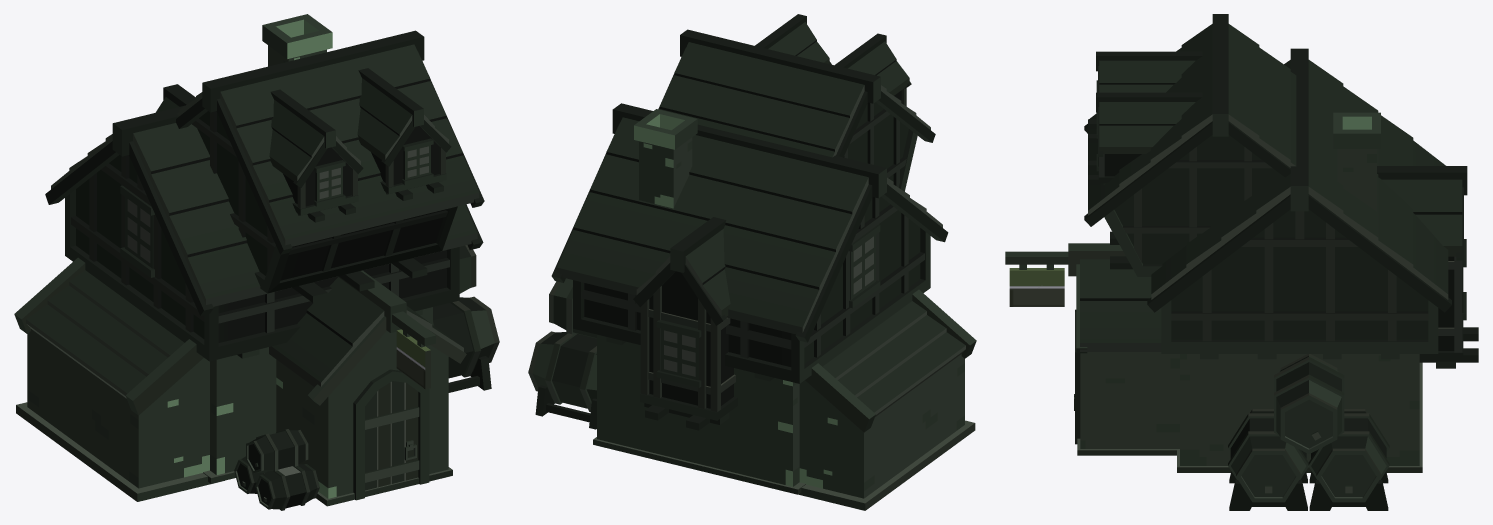
Rendered from SF_Bld_House_Tavern_01.glb.
3 renders of one model, left to right at view 1: azimuth 30°, elevation 25°; view 2: azimuth 150°, elevation 25°; view 3: azimuth 270°, elevation 25°, orthographic. The views are drawn at different scales.
Parts seen in each view (by area): view 1: SF_Bld_House_Tavern_01; view 2: SF_Bld_House_Tavern_01; view 3: SF_Bld_House_Tavern_01.
Part boxes in pixels (x1=…): SF_Bld_House_Tavern_01: x1=14, y1=14, x2=499, y2=510; SF_Bld_House_Tavern_01: x1=528, y1=14, x2=976, y2=510; SF_Bld_House_Tavern_01: x1=1005, y1=14, x2=1478, y2=510.
Size of the model in its own units: 0.1421 by 0.1314 by 0.1547.
Materials: 1 (1 with a texture image).
